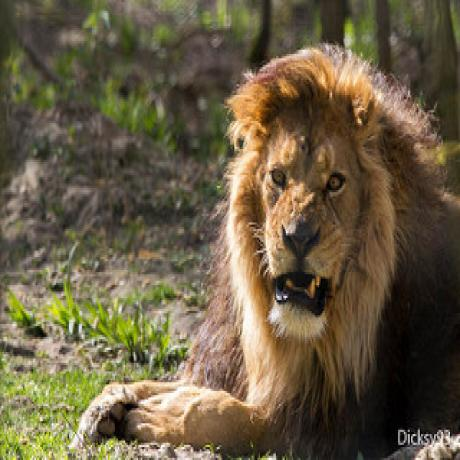Lion: (90, 38, 460, 460)
